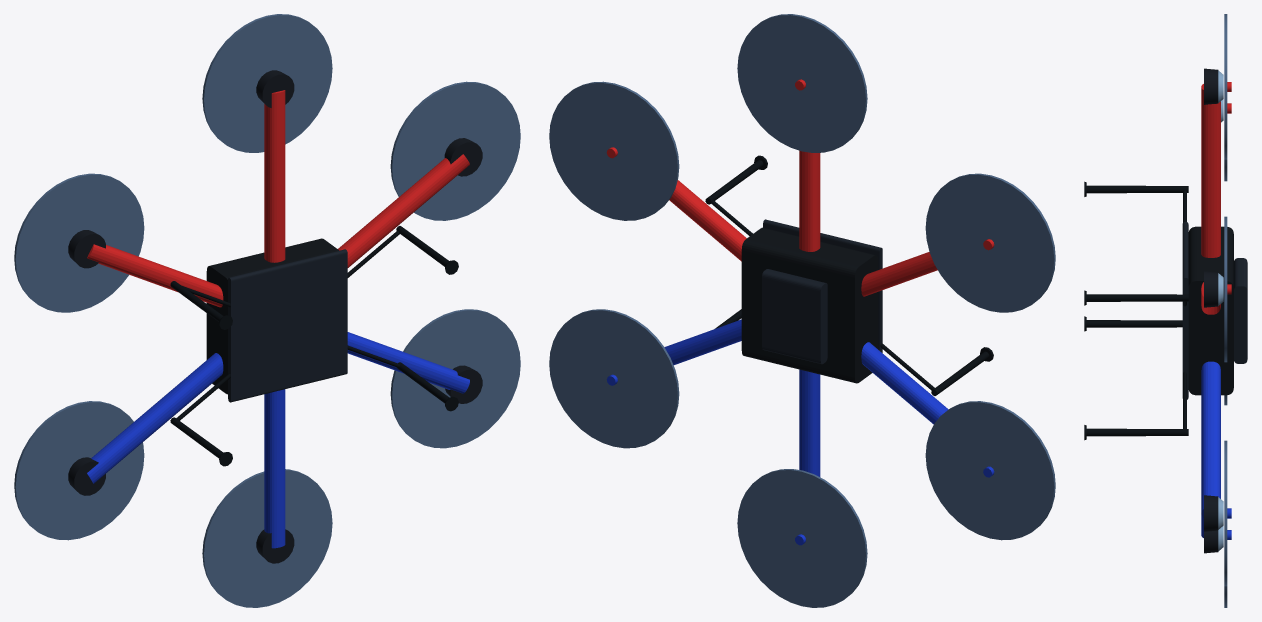
Rendered from hexacopter.obj.
3 renders of one model, left to right at view 1: azimuth 30°, elevation 25°; view 2: azimuth 150°, elevation 25°; view 3: azimuth 270°, elevation 25°, orthographic.
Parts seen in each view (by area): view 1: prop_grey_5, body_mid_1, red_metal_2, blue_metal_6, motor_dark_3, leg_dark_7, body_dark_0; view 2: prop_grey_5, body_dark_0, body_mid_1, blue_metal_6, red_metal_2, leg_dark_7; view 3: body_dark_0, leg_dark_7, red_metal_2, blue_metal_6, body_mid_1, prop_grey_5, motor_dark_3, motor_silver_4.
Part boxes in pixels (bbox=[...]): prop_grey_5: bbox=[14, 14, 520, 607]; body_mid_1: bbox=[228, 249, 347, 402]; red_metal_2: bbox=[87, 90, 469, 307]; blue_metal_6: bbox=[87, 332, 469, 548]; motor_dark_3: bbox=[68, 70, 482, 563]; leg_dark_7: bbox=[170, 226, 458, 466]; body_dark_0: bbox=[206, 238, 338, 394]; prop_grey_5: bbox=[549, 14, 1055, 607]; body_dark_0: bbox=[741, 227, 877, 383]; body_mid_1: bbox=[762, 219, 882, 364]; blue_metal_6: bbox=[606, 319, 994, 545]; red_metal_2: bbox=[606, 79, 994, 296]; leg_dark_7: bbox=[705, 155, 993, 395]; body_dark_0: bbox=[1188, 226, 1233, 395]; leg_dark_7: bbox=[1084, 181, 1188, 440]; red_metal_2: bbox=[1201, 82, 1231, 314]; blue_metal_6: bbox=[1201, 361, 1231, 539]; body_mid_1: bbox=[1182, 222, 1247, 399]; prop_grey_5: bbox=[1224, 14, 1227, 607]; motor_dark_3: bbox=[1204, 68, 1218, 553]; motor_silver_4: bbox=[1218, 70, 1223, 551].
Bounding box in the file's own units: 1.14 × 1.27 × 0.3232.
